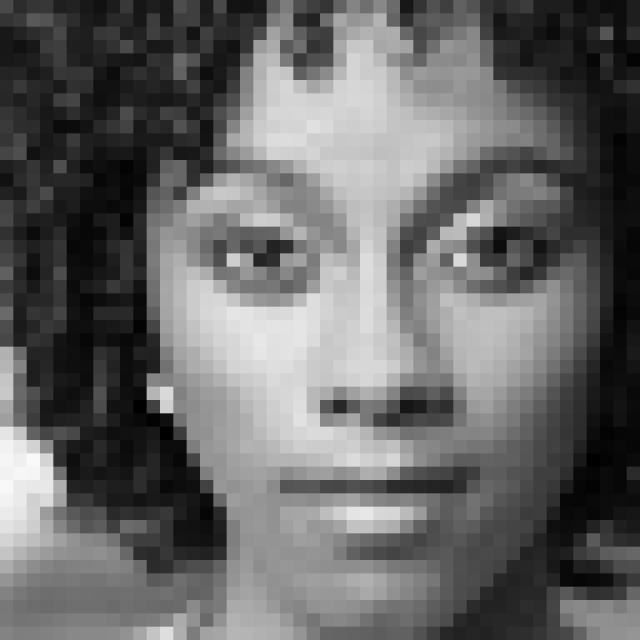neutral: (168, 141, 601, 574)
